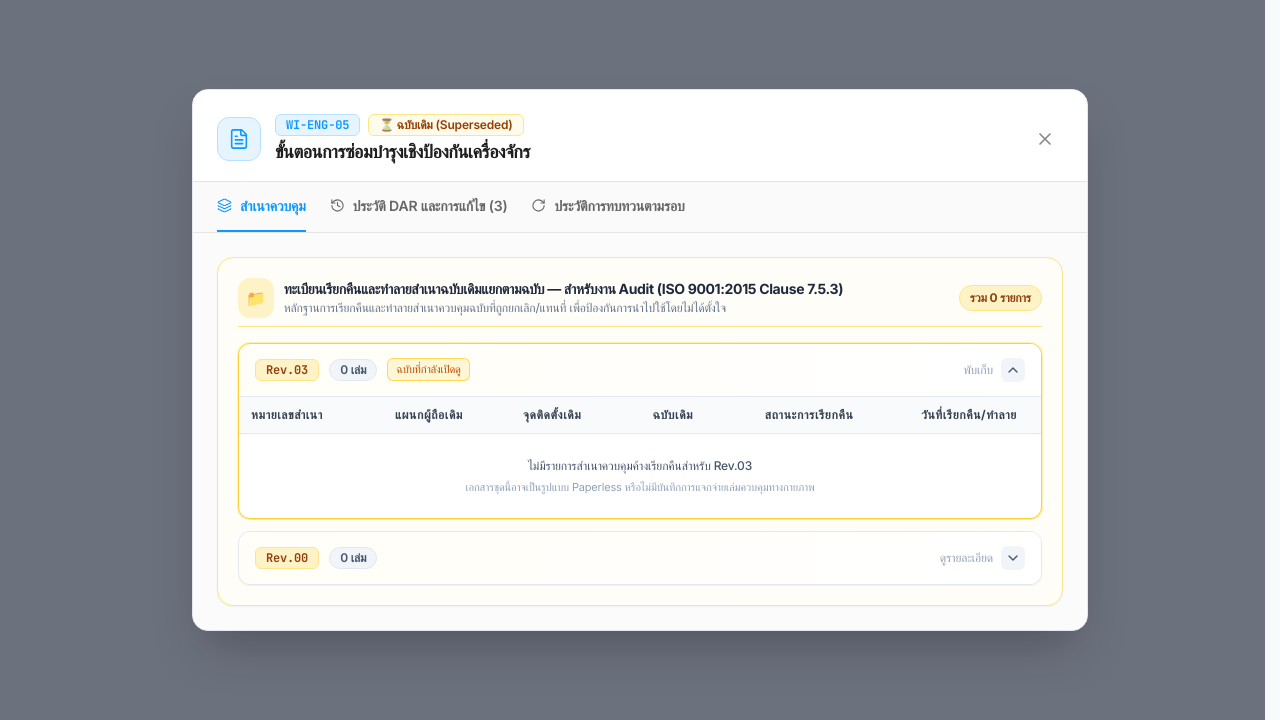
Test: Unified Historical Revisions Vertical Accordion Timeline Test Suite › 3. Expand All / Collapse All controls toggle all accordion items simultaneously
This screenshot has width=1280, height=720.
Click the button "ประวัติ DAR และการแก้ไข (3)": (419, 206) [330,182,508,232]
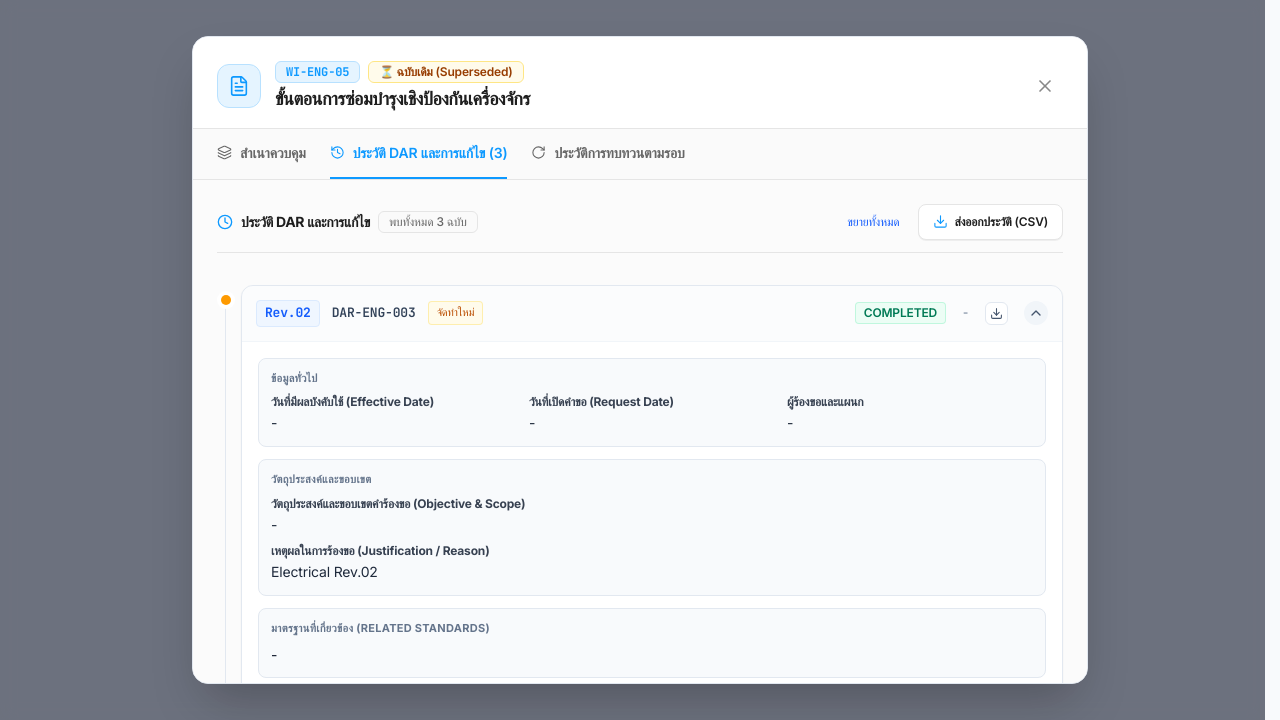
Now the button "ขยายทั้งหมด" is shown
Click Expand All
Click the button "ขยายทั้งหมด": (873, 222) [836,207,910,237]
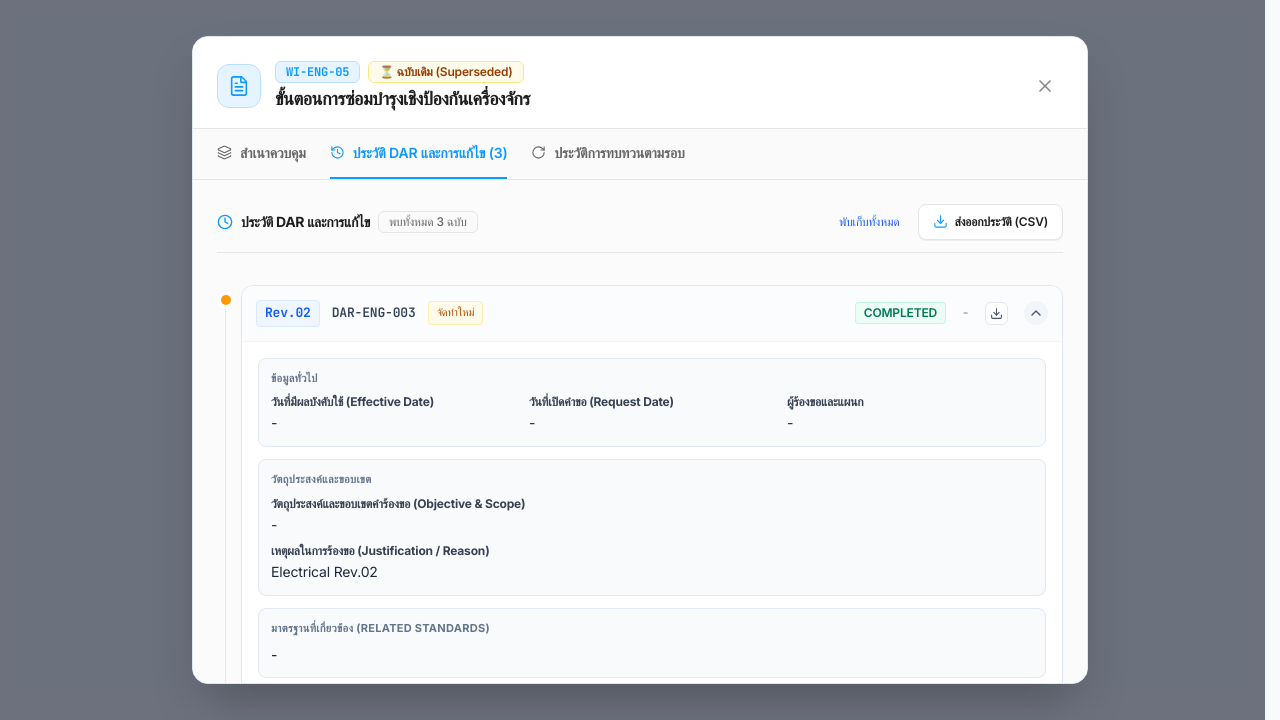
Now the text "Electrical Rev.02" is shown, box [271,563,378,580]
Now the button "พับเก็บทั้งหมด" is shown
Click Collapse All
Click the button "พับเก็บทั้งหมด": (869, 222) [828,207,910,237]
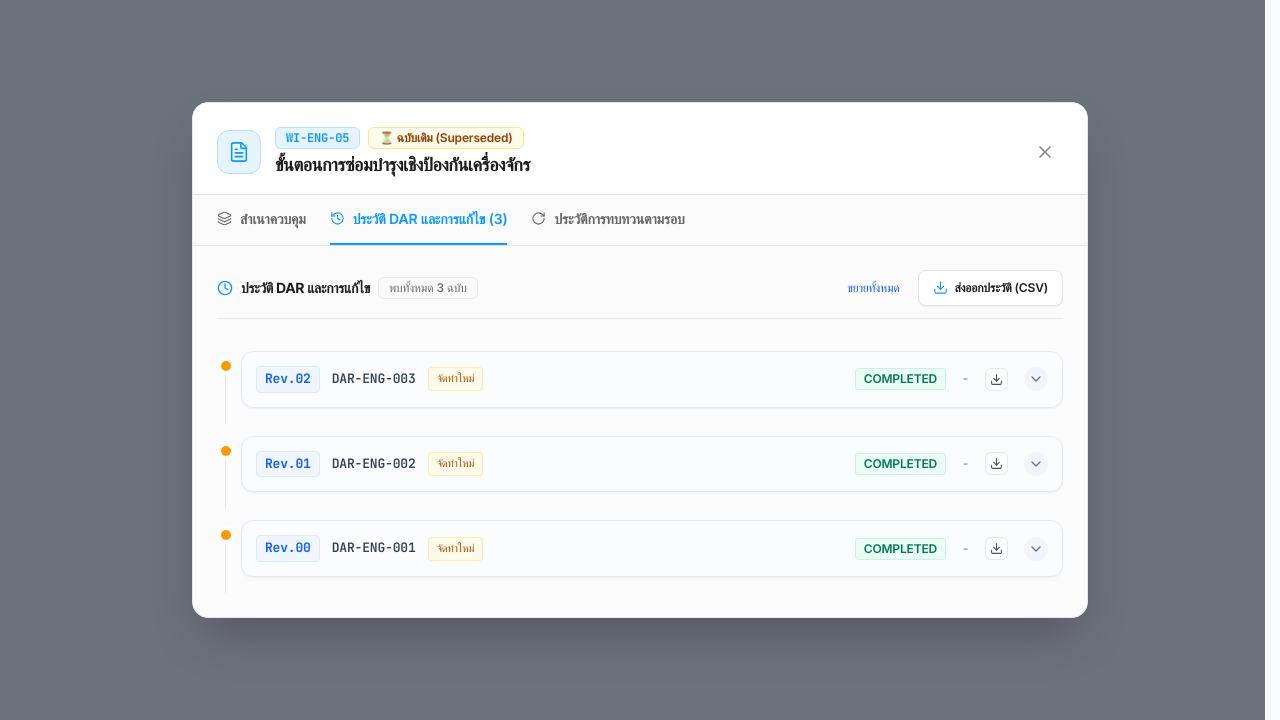
Now the text "Electrical Rev.02" is gone
Now the button "ขยายทั้งหมด" is shown, box [836,273,910,303]
